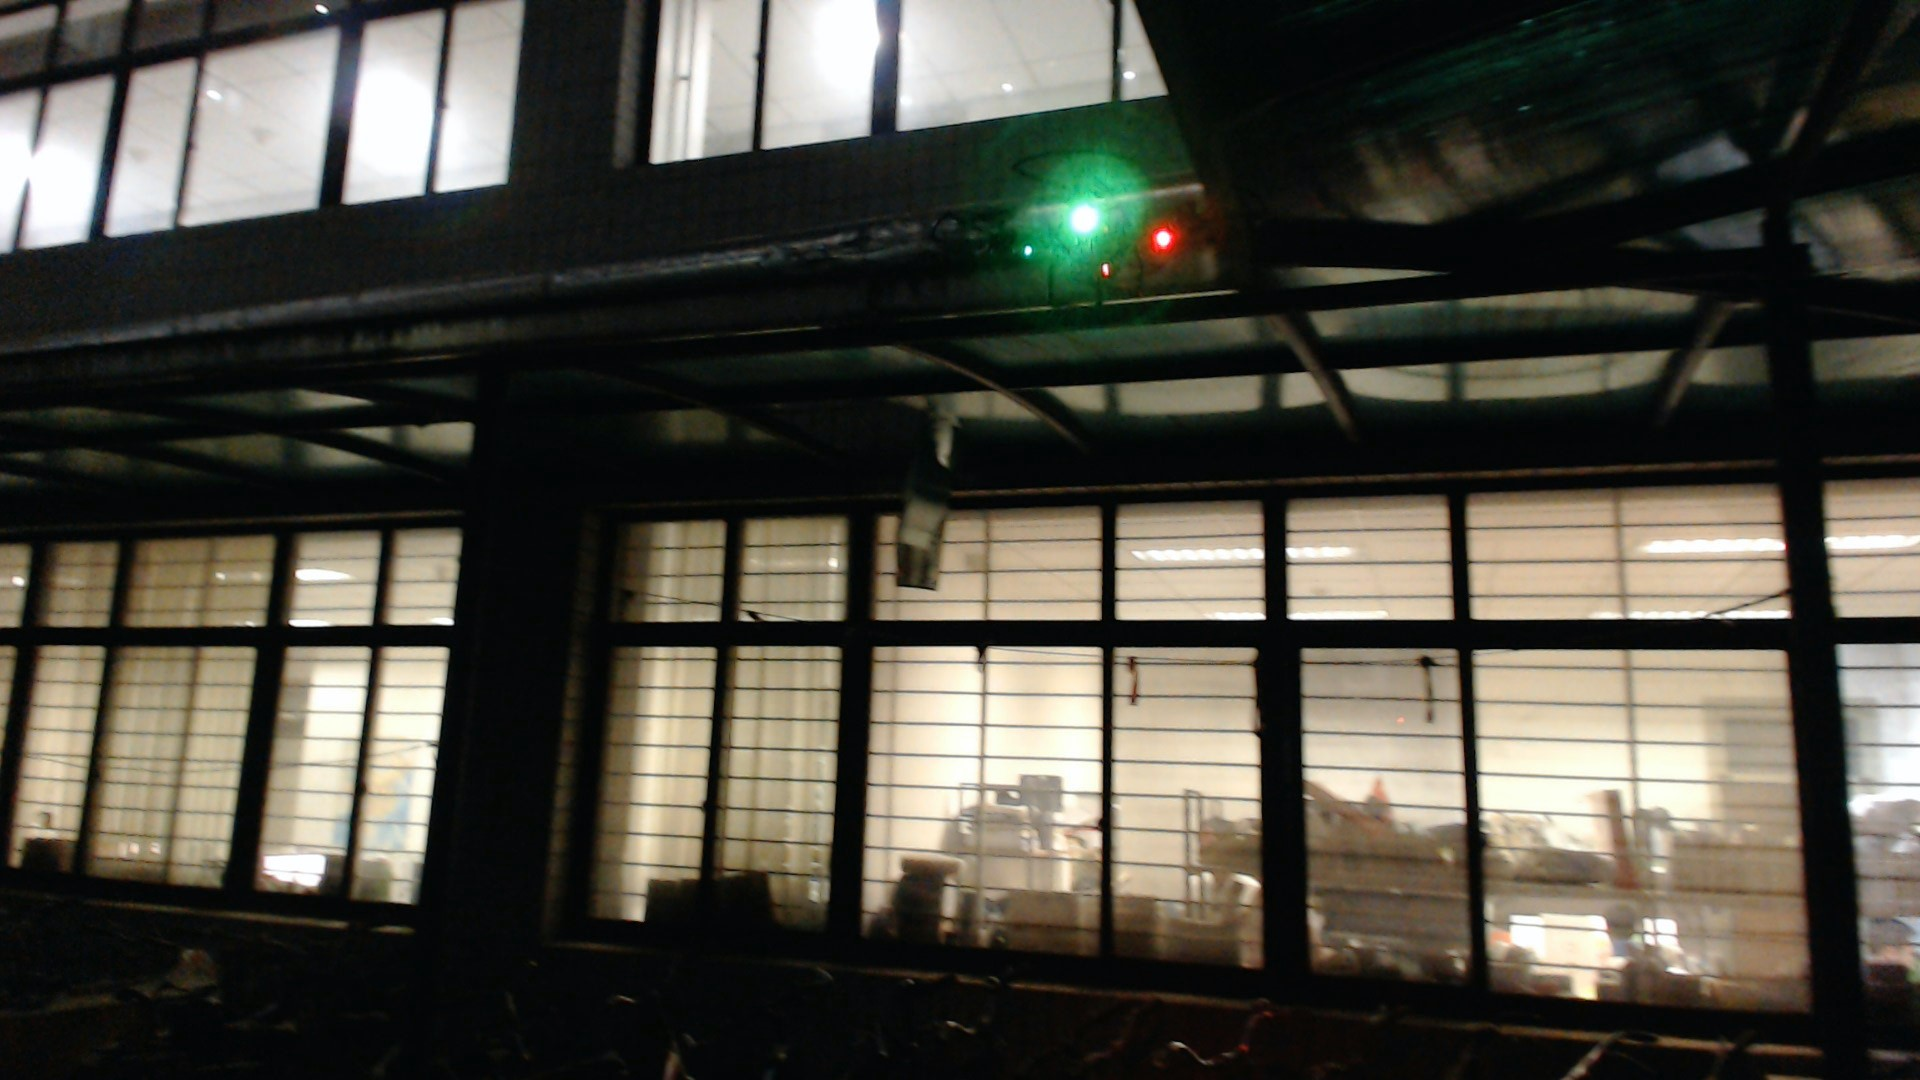drone: (926, 142, 1215, 335)
